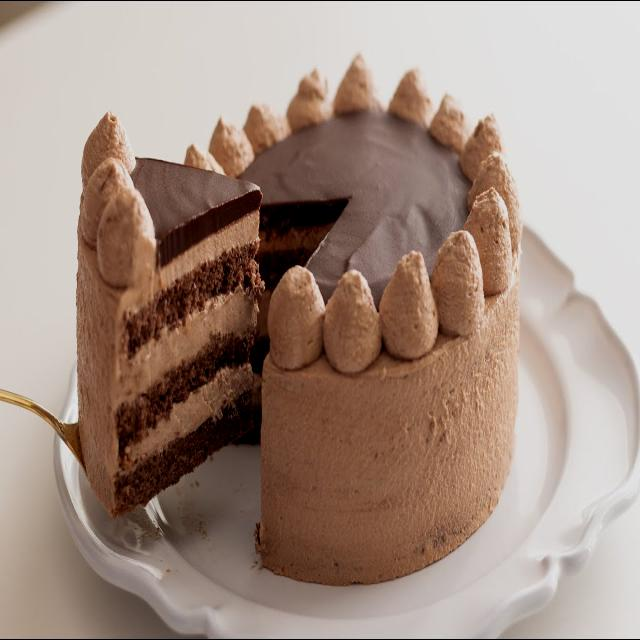chocolatecake: (75, 53, 524, 587)
